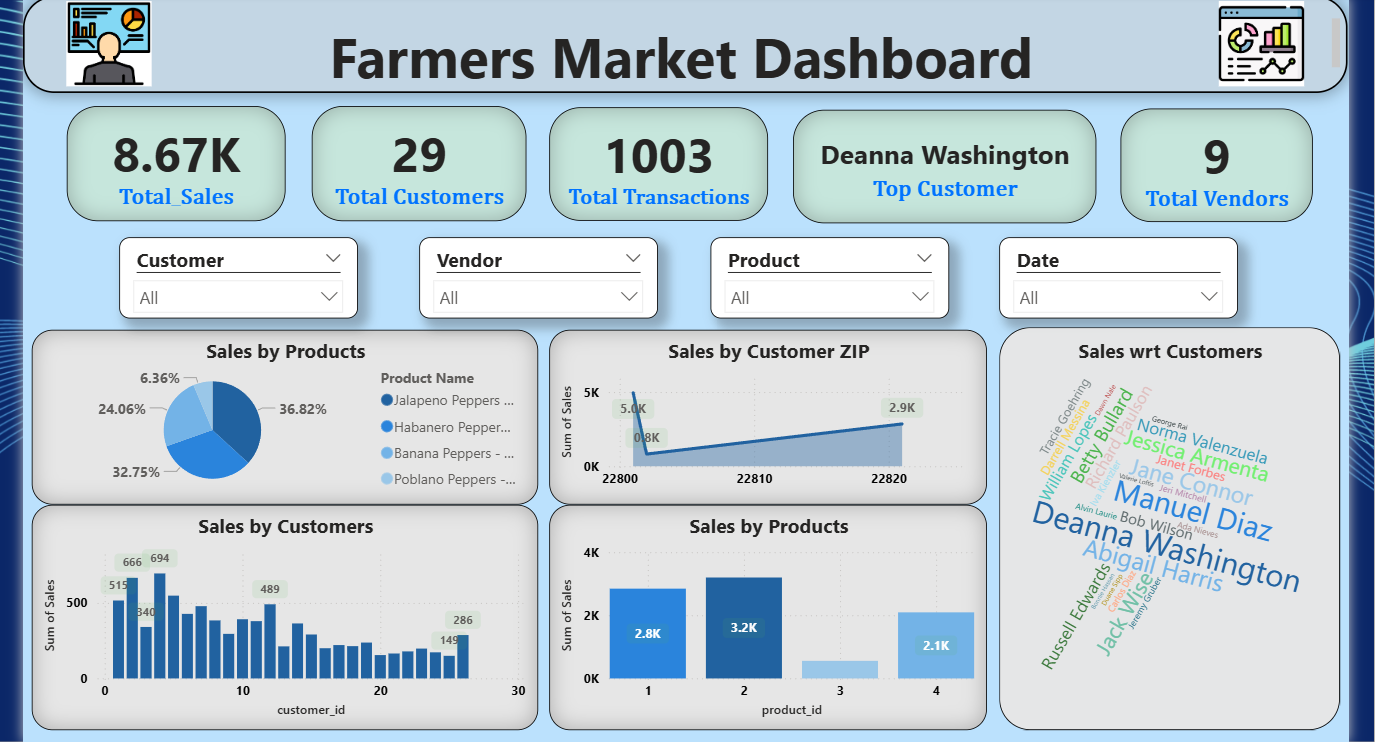

The dashboard page shown, as its layout file describes it:
{"tool":"powerbi","page":{"name":"Sales Wise Analysis","canvas":[1280,720],"ordinal":0},"visuals":[{"type":"columnChart","title":"Sales by Customers ","fields":{"Category":["customer_purchases.customer_id"],"Y":["customer_purchases.Sales"]},"box":[8.8,491.2,488.8,217.5],"z":0},{"type":"columnChart","title":"Sales by Products","fields":{"Category":["product.product_id"],"Series":["product.product_name"],"Y":["customer_purchases.Sales"]},"box":[507.5,491.2,422.5,217.5],"z":1000},{"type":"pieChart","title":"Sales by Products","fields":{"Category":["product.product_name"],"Y":["customer_purchases.Sales"]},"box":[8.8,322.5,488.8,168.8],"z":2000},{"type":"textbox","box":[0,0,1278.8,93.8],"z":3000},{"type":"image","box":[33.8,0,98.8,92.5],"z":4000},{"type":"image","box":[1146.2,0,98.8,92.5],"z":5000},{"type":"card","fields":{"Values":["customer_purchases.Total_Sales"]},"box":[42.2,106.2,211.1,111],"z":6000},{"type":"card","fields":{"Values":["customer_purchases.customer_id"]},"box":[278.7,106.2,207.5,111],"z":7000},{"type":"card","fields":{"Values":["customer_purchases.Top Customer"]},"box":[743.2,109.8,293.2,109.8],"z":9000},{"type":"slicer","fields":{"Values":["customer_purchases.customer_id"]},"box":[92.5,232.5,230,78.8],"z":10000},{"type":"slicer","fields":{"Values":["customer_purchases.vendor_id"]},"box":[382.5,232.5,230,78.8],"z":11000},{"type":"slicer","fields":{"Values":["customer_purchases.product_id"]},"box":[663.8,232.5,230,78.8],"z":12000},{"type":"slicer","fields":{"Values":["customer_purchases.market_date"]},"box":[942.5,232.5,230,78.8],"z":13000},{"type":"areaChart","title":"Sales by Customer ZIP","fields":{"Category":["customer.customer_zip"],"Y":["customer_purchases.Sales"]},"box":[507.5,322.5,422.5,168.8],"z":14000},{"type":"WordCloud1447959067750","title":"Sales wrt Customers","fields":{"Values":["customer_purchases.Sales"],"Category":["customer.customer_Full_Name"]},"box":[942.5,320,328.8,388.8],"z":15000},{"type":"card","fields":{"Values":["customer_purchases.customer_id"]},"box":[507.9,107.4,211.1,109.8],"z":16000},{"type":"card","fields":{"Values":["vendor.vendor_id"]},"box":[1059.3,108.6,185.8,109.8],"z":16001}]}

Visuals, with their boxes on the page's 1280x720 design canvas (x1, y1, x2, y2). These are canvas units, not pixel positions in the 1376x742 screenshot, which may show the page scaled, cropped or inside an application window:
"Sales by Customers " columnChart: <box>9,491,498,709</box>
"Sales by Products" columnChart: <box>508,491,930,709</box>
"Sales by Products" pieChart: <box>9,322,498,491</box>
textbox: <box>0,0,1279,94</box>
image: <box>34,0,133,92</box>
image: <box>1146,0,1245,92</box>
card - customer_purchases.Total_Sales: <box>42,106,253,217</box>
card - customer_purchases.customer_id: <box>279,106,486,217</box>
card - customer_purchases.Top Customer: <box>743,110,1036,220</box>
slicer - customer_purchases.customer_id: <box>92,232,322,311</box>
slicer - customer_purchases.vendor_id: <box>382,232,612,311</box>
slicer - customer_purchases.product_id: <box>664,232,894,311</box>
slicer - customer_purchases.market_date: <box>942,232,1172,311</box>
"Sales by Customer ZIP" areaChart: <box>508,322,930,491</box>
"Sales wrt Customers" WordCloud1447959067750: <box>942,320,1271,709</box>
card - customer_purchases.customer_id: <box>508,107,719,217</box>
card - vendor.vendor_id: <box>1059,109,1245,218</box>
